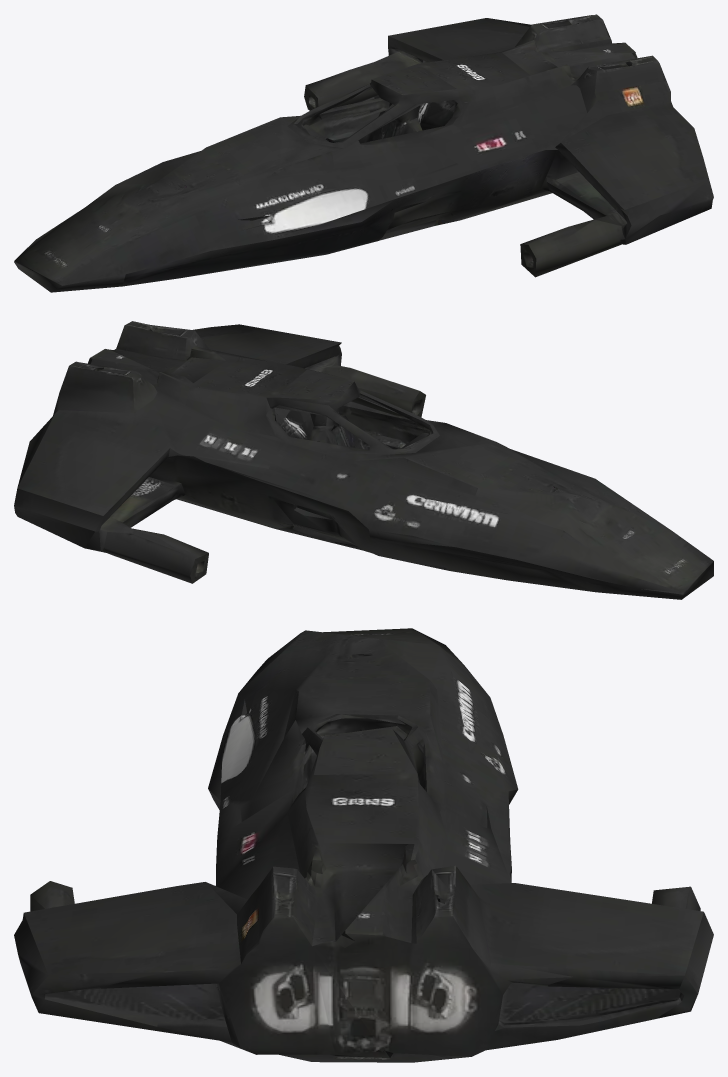
File: ship11.glb
3 renders of one model, top to bottom at view 1: azimuth 30°, elevation 25°; view 2: azimuth 150°, elevation 25°; view 3: azimuth 270°, elevation 25°, orthographic. The views are drawn at different scales.
Visible parts, largest first — view 1: Mesh0; view 2: Mesh0; view 3: Mesh0.
Part boxes in pixels (x1,y1,x2,y2): Mesh0: (14, 14, 713, 292); Mesh0: (14, 321, 713, 599); Mesh0: (14, 628, 713, 1062).
Size of the model in its own units: 1.89 by 0.4161 by 1.33.
Materials: 1 (1 with a texture image).
